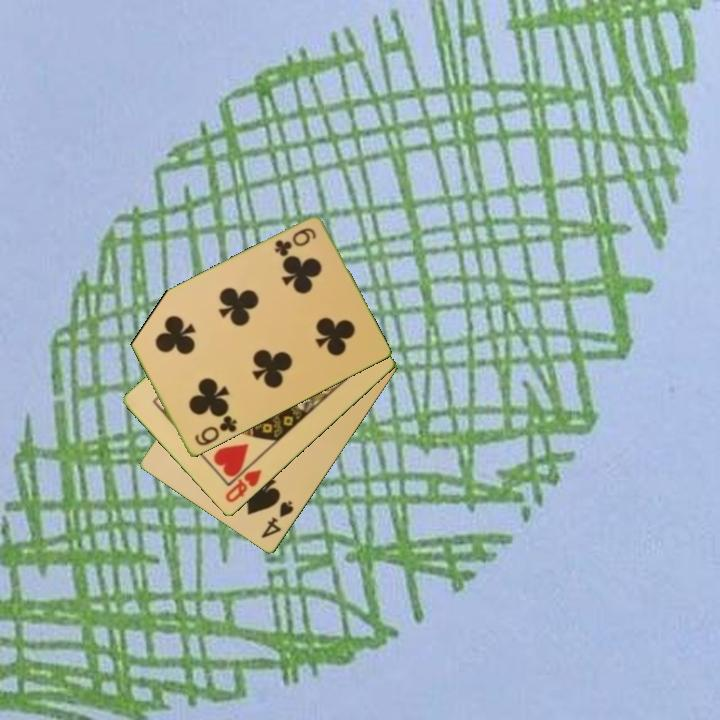4s: (257, 497, 297, 542)
6c: (191, 412, 240, 449), (271, 225, 319, 260)
Qh: (222, 466, 265, 506)
